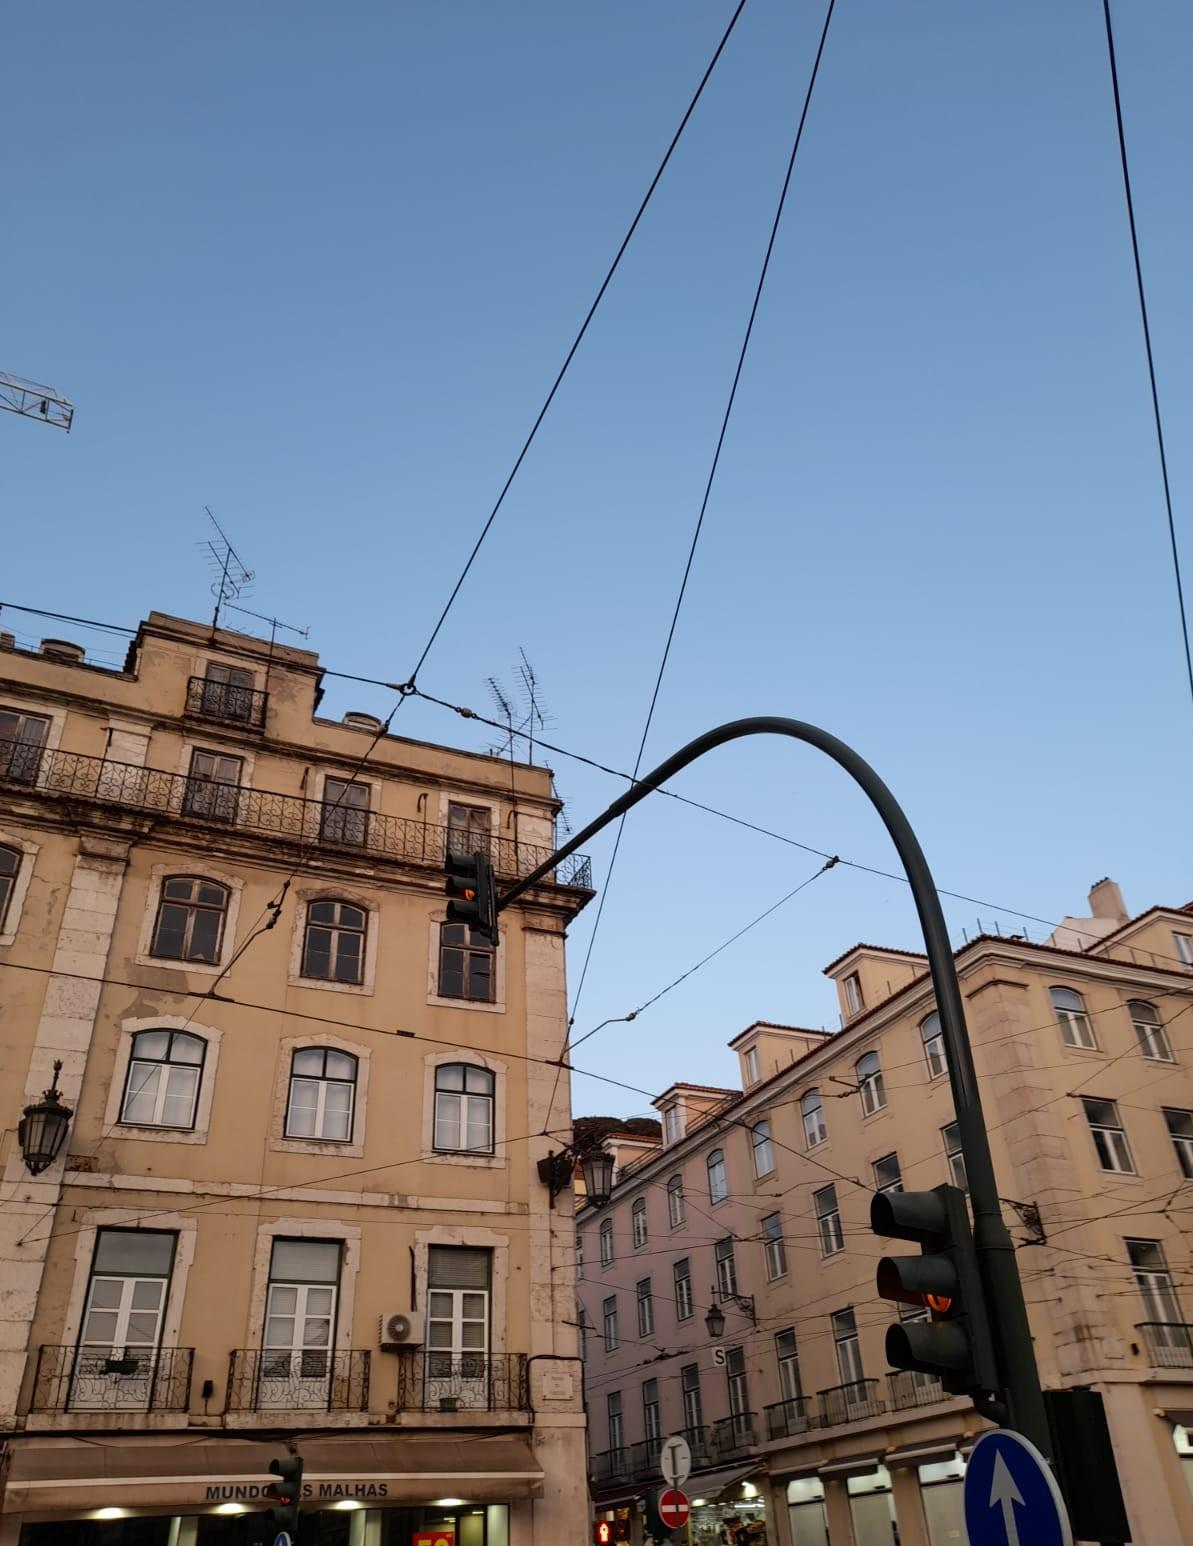yellow_light: (871, 1183, 998, 1394), (445, 851, 490, 931), (263, 1457, 303, 1531)
